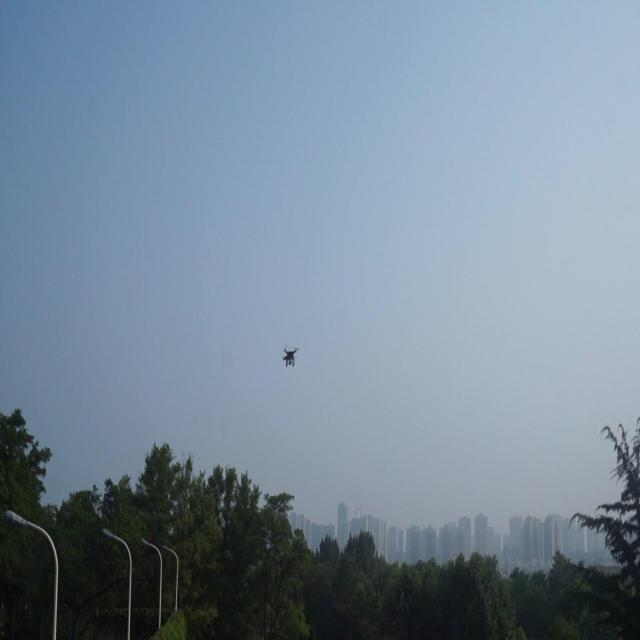UAV: (282, 345, 300, 368)
